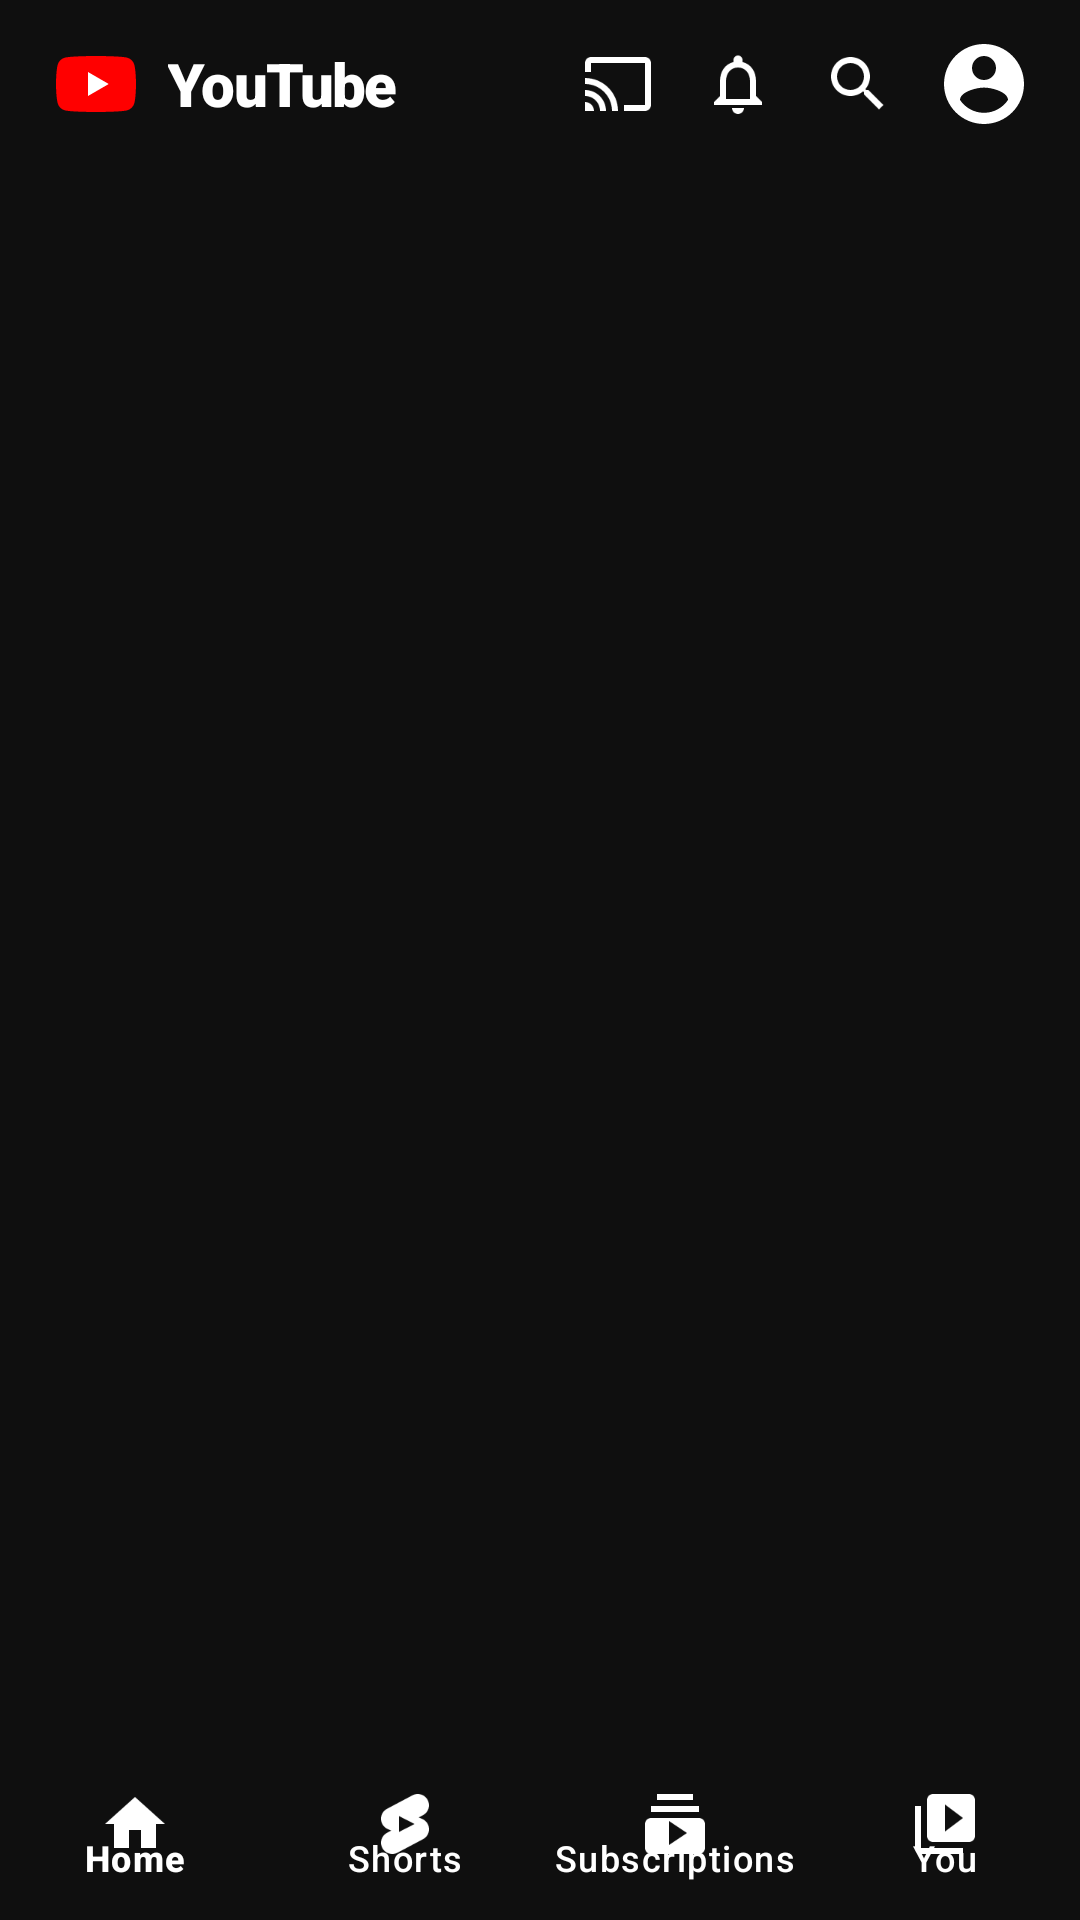

Named icons in this screenshot (1080w x 1920h) and their bounding boxes, bbox(x1, y1, x2, y2):
Cast: bbox(585, 57, 651, 111)
Google Account: bbox(944, 44, 1024, 124)
Notifications: bbox(714, 55, 762, 114)
Search: bbox(831, 57, 884, 110)
